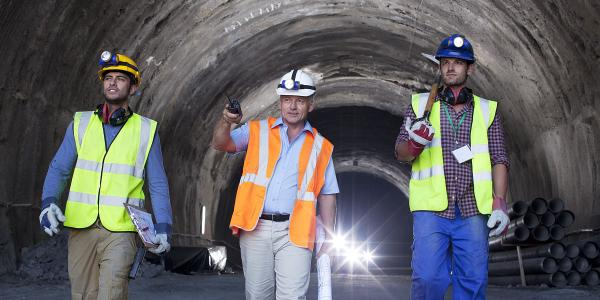gloves: (404, 117, 435, 157), (485, 196, 510, 238), (39, 202, 65, 236), (153, 217, 171, 254)
hard-hat: (96, 51, 140, 87), (434, 34, 474, 63), (275, 69, 315, 97)
person: (38, 49, 174, 299), (393, 33, 512, 300), (211, 67, 340, 299)
vest: (236, 118, 330, 247), (406, 91, 499, 221), (61, 111, 148, 229)
